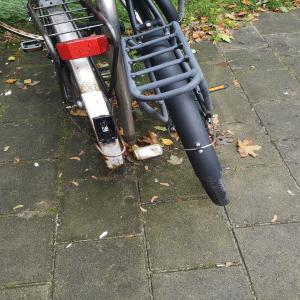Can: (129, 142, 171, 164)
